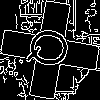Q: (25, 25, 79, 72)
